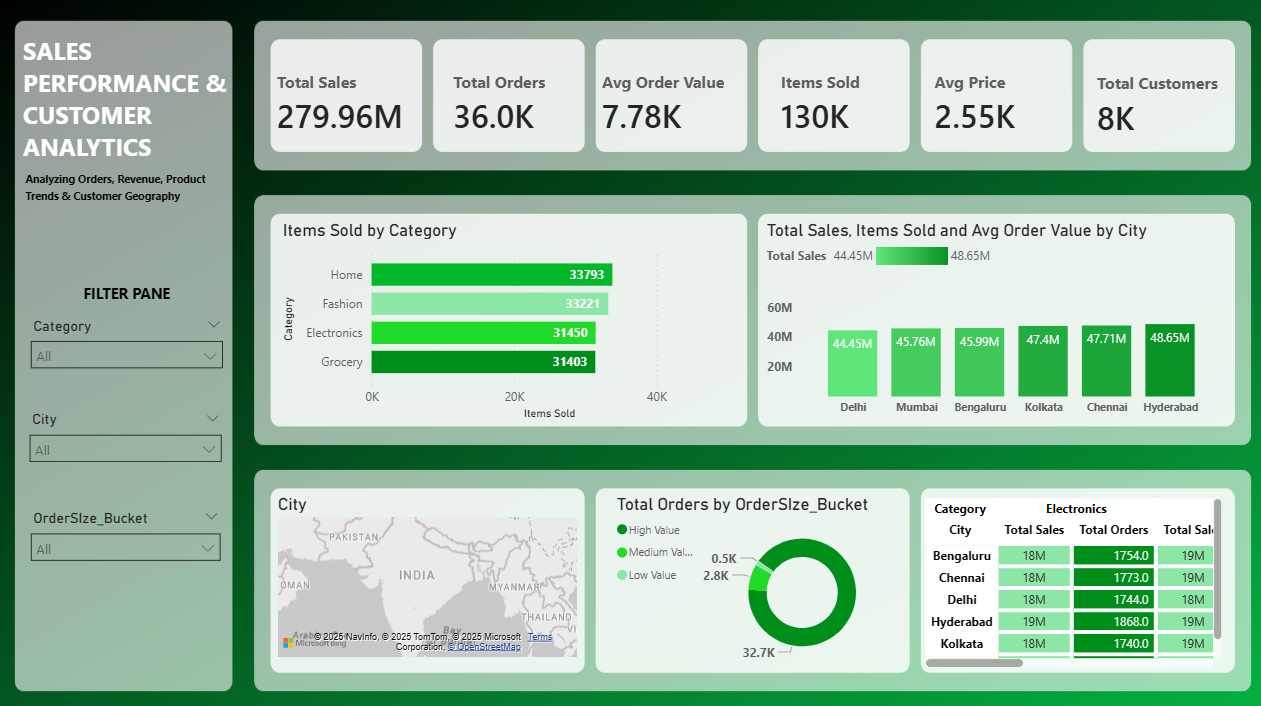

Layout of this report page (visuals, bound fields, positions):
{"tool":"powerbi","page":{"name":"Page 1","canvas":[1280,720],"ordinal":0},"visuals":[{"type":"cardVisual","fields":{"Data":["Fact_Orders.Total Sales"]},"box":[255.2,50.3,209.8,114.1],"z":0},{"type":"cardVisual","fields":{"Data":["Fact_Orders.Total Orders"]},"box":[430.7,50.3,173,114.1],"z":1000},{"type":"cardVisual","fields":{"Data":["Fact_Orders.Avg Order Value"]},"box":[580.4,50.3,189,114.1],"z":2000},{"type":"cardVisual","fields":{"Data":["Fact_Orders.Items Sold"]},"box":[758.3,50.3,189,114.1],"z":3000},{"type":"cardVisual","fields":{"Data":["Fact_Orders.Avg Price"]},"box":[912.9,50.3,189,114.1],"z":4000},{"type":"cardVisual","fields":{"Data":["Fact_Orders.Total Customers"]},"box":[1074.9,51.5,189,114.1],"z":5000},{"type":"clusteredBarChart","fields":{"Category":["Dim_Products.Category"],"Y":["Fact_Orders.Items Sold"]},"box":[285,223.8,465,205],"z":6000},{"type":"columnChart","fields":{"Y":["Fact_Orders.Total Sales"],"Category":["Dim_Customers.City"]},"box":[769.3,223.3,465,204.9],"z":7000},{"type":"donutChart","fields":{"Category":["Fact_Orders.OrderSIze_Bucket"],"Y":["Fact_Orders.Total Orders"]},"box":[618.4,496.9,294.5,179.1],"z":8000},{"type":"pivotTable","fields":{"Rows":["Dim_Customers.City"],"Columns":["Dim_Products.Category"],"Values":["Fact_Orders.Total Sales","Fact_Orders.Total Orders"]},"box":[927.6,496.9,306.8,179.1],"z":9000},{"type":"filledMap","fields":{"Category":["Dim_Customers.City"]},"box":[279.8,496.9,309.2,169.3],"z":10000},{"type":"textbox","box":[24.5,34.4,255.2,148.5],"z":11000},{"type":"slicer","fields":{"Values":["Dim_Products.Category"]},"box":[27.5,316.2,212.5,87.5],"z":12000},{"type":"slicer","fields":{"Values":["Dim_Customers.City"]},"box":[26.2,410,212.5,87.5],"z":13000},{"type":"slicer","fields":{"Values":["Fact_Orders.OrderSIze_Bucket"]},"box":[27.5,508.8,210,86.2],"z":14000},{"type":"textbox","box":[27.5,167.5,212.5,56.2],"z":14001},{"type":"textbox","box":[27.5,282.5,212.5,33.8],"z":14002}]}

Visuals, with their boxes in screenshot pixels (x1, y1, x2, y2), scaled from the page's 1280x720 canvas onto the 1261x706 screenshot:
cardVisual - Fact_Orders.Total Sales: BBox(251, 49, 458, 161)
cardVisual - Fact_Orders.Total Orders: BBox(424, 49, 595, 161)
cardVisual - Fact_Orders.Avg Order Value: BBox(572, 49, 758, 161)
cardVisual - Fact_Orders.Items Sold: BBox(747, 49, 933, 161)
cardVisual - Fact_Orders.Avg Price: BBox(899, 49, 1086, 161)
cardVisual - Fact_Orders.Total Customers: BBox(1059, 50, 1245, 162)
clusteredBarChart - Dim_Products.Category x Fact_Orders.Items Sold: BBox(281, 219, 739, 420)
columnChart - Fact_Orders.Total Sales x Dim_Customers.City: BBox(758, 219, 1216, 420)
donutChart - Fact_Orders.OrderSIze_Bucket x Fact_Orders.Total Orders: BBox(609, 487, 899, 663)
pivotTable - Dim_Customers.City x Dim_Products.Category: BBox(914, 487, 1216, 663)
filledMap - Dim_Customers.City: BBox(276, 487, 580, 653)
textbox: BBox(24, 34, 276, 179)
slicer - Dim_Products.Category: BBox(27, 310, 236, 396)
slicer - Dim_Customers.City: BBox(26, 402, 235, 488)
slicer - Fact_Orders.OrderSIze_Bucket: BBox(27, 499, 234, 583)
textbox: BBox(27, 164, 236, 219)
textbox: BBox(27, 277, 236, 310)
